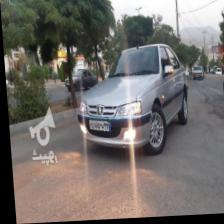plate: (87, 118, 110, 136)
